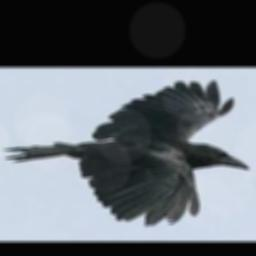Crow: (2, 81, 250, 227)
